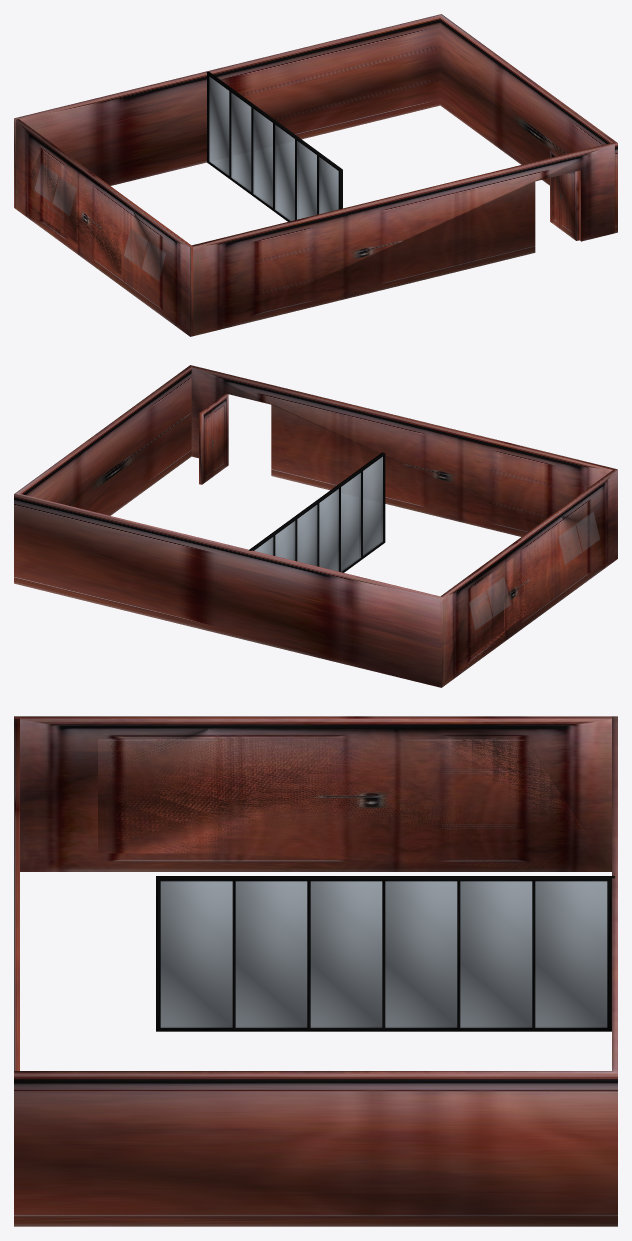
3 renders of one model, top to bottom at view 1: azimuth 30°, elevation 25°; view 2: azimuth 150°, elevation 25°; view 3: azimuth 270°, elevation 25°, orthographic. The views are drawn at different scales.
Visible parts, largest first — view 1: Asset3DLoader.sceneRoot; view 2: Asset3DLoader.sceneRoot; view 3: Asset3DLoader.sceneRoot.
Boxes of the visible parts, x1,y1,x2,y2 form: Asset3DLoader.sceneRoot: [14, 14, 617, 336]; Asset3DLoader.sceneRoot: [14, 365, 617, 687]; Asset3DLoader.sceneRoot: [14, 716, 617, 1226].
Size of the model in its own units: 112 by 22.05 by 78.74.
Materials: 4 (1 with a texture image).
